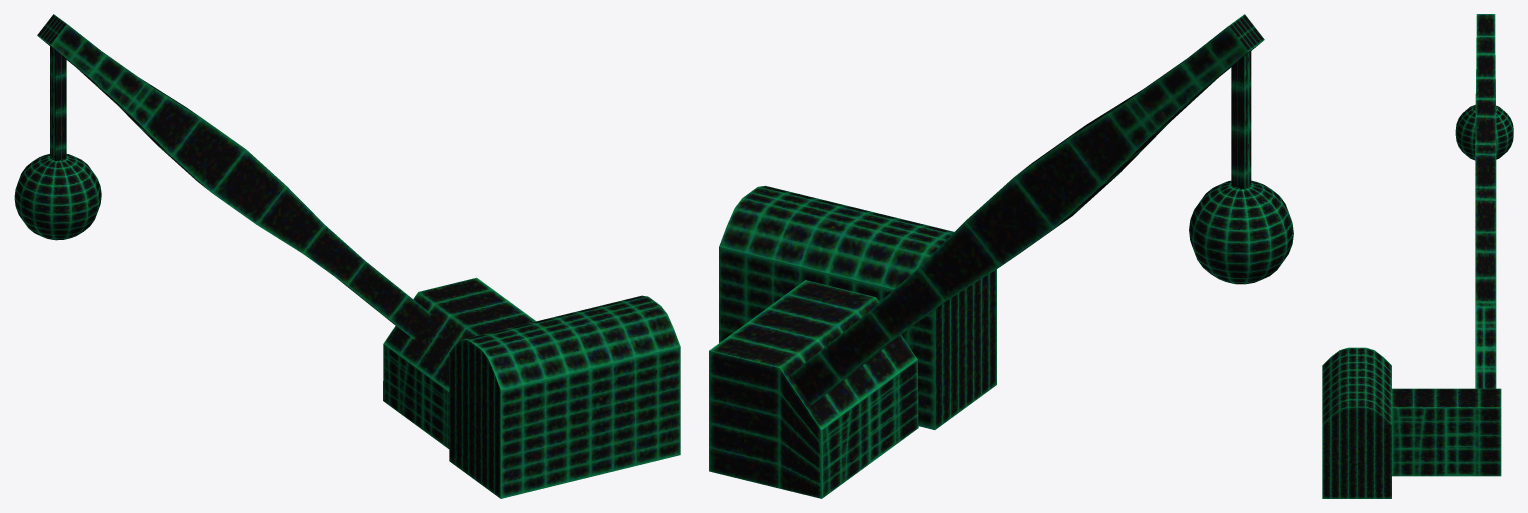
The model's file is ConstructionYard_Green.fbx.
3 views of the same model, side by side, from view 1: azimuth 30°, elevation 25°; view 2: azimuth 150°, elevation 25°; view 3: azimuth 270°, elevation 25° (orthographic). The views are drawn at different scales.
Visible parts, largest first — view 1: ConstructionYard_Green; view 2: ConstructionYard_Green; view 3: ConstructionYard_Green.
Part boxes in pixels (left/top/right/bottom): ConstructionYard_Green: left=14, top=14, right=680, bottom=498; ConstructionYard_Green: left=709, top=14, right=1293, bottom=498; ConstructionYard_Green: left=1322, top=14, right=1513, bottom=498.
Bounding box in the file's own units: 46.11 × 38.44 × 20.82.
